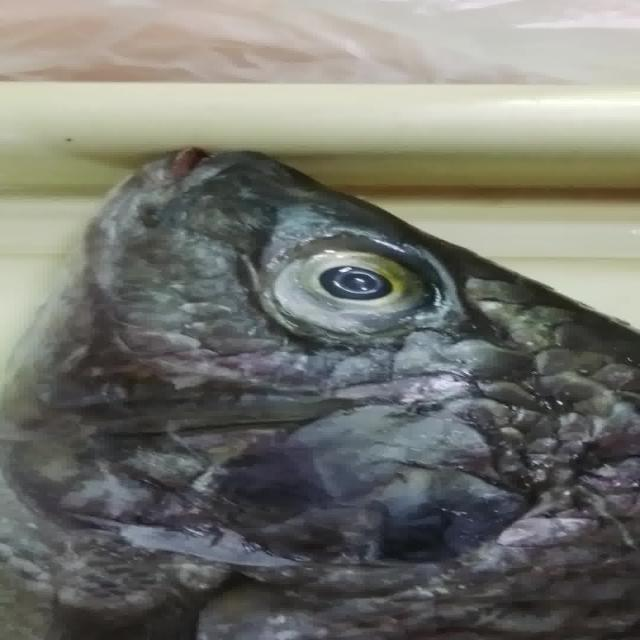Non-Fresh: (245, 210, 452, 354)
